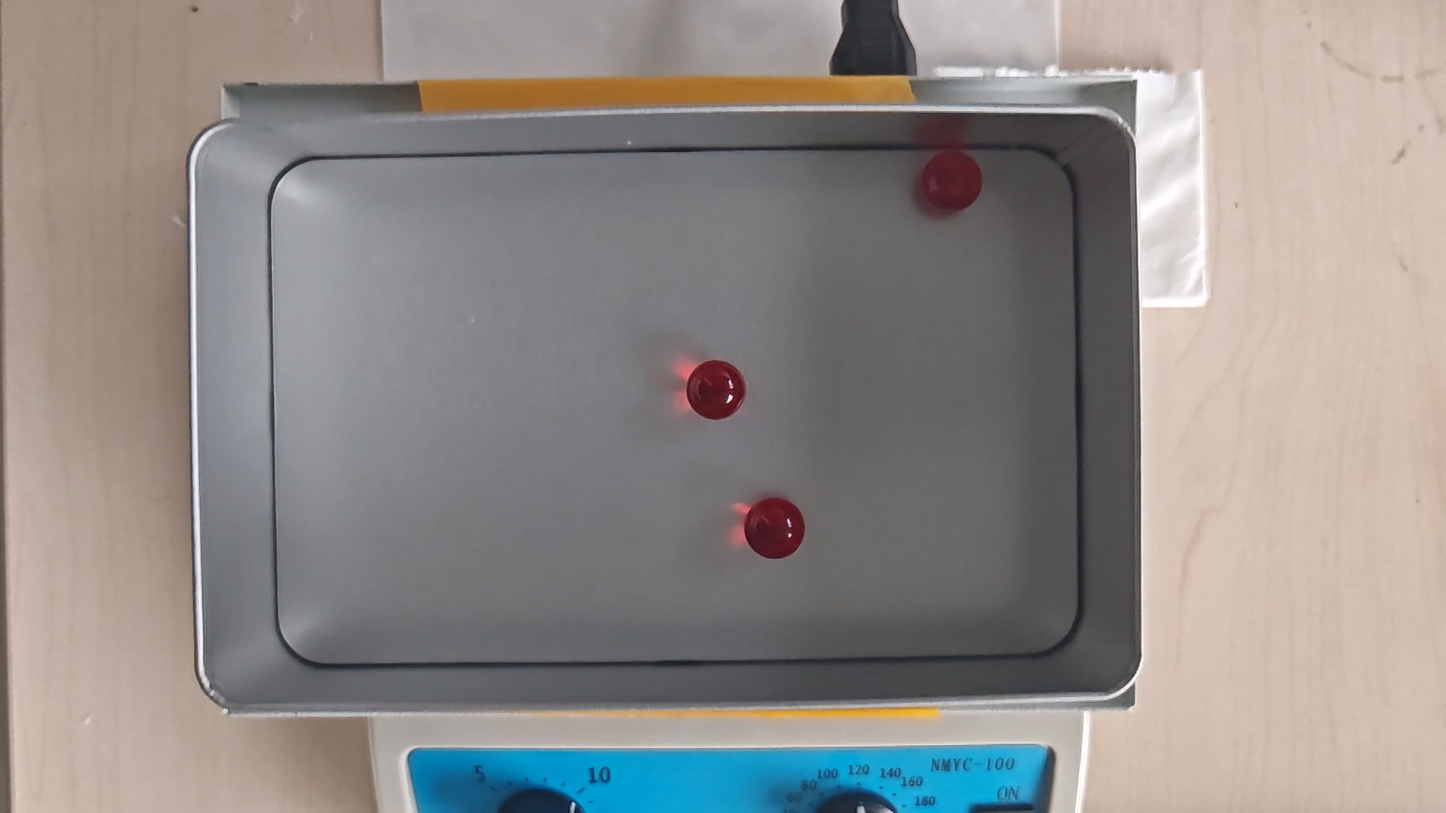ball: (920, 148, 984, 212), (746, 499, 806, 559), (687, 361, 748, 419)
container: (267, 152, 1078, 659)
